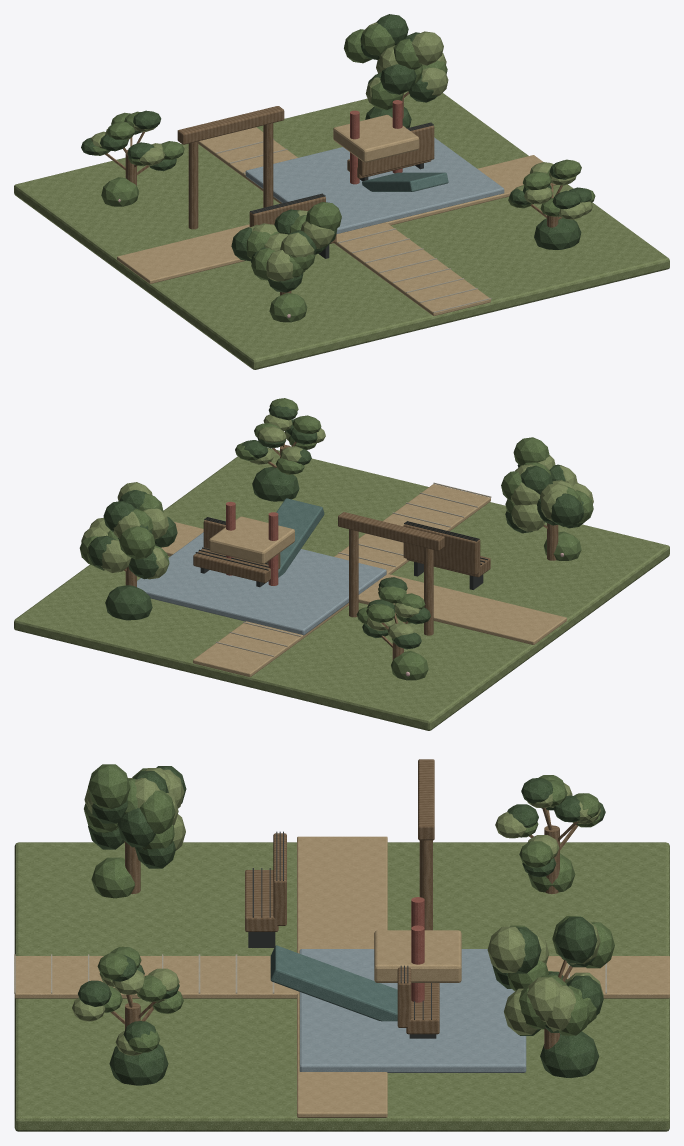
Rendered from PARK_2x2_002.glb.
The picture shows the model from 3 angles, top to bottom: view 1: azimuth 30°, elevation 25°; view 2: azimuth 150°, elevation 25°; view 3: azimuth 270°, elevation 25°; orthographic projection. The views are drawn at different scales.
Visible parts, largest first — view 1: PARK_2x2_002_Visual; view 2: PARK_2x2_002_Visual; view 3: PARK_2x2_002_Visual.
Part boxes in pixels (x1,y1,x2,y2): PARK_2x2_002_Visual: (14, 14, 669, 369); PARK_2x2_002_Visual: (14, 398, 669, 730); PARK_2x2_002_Visual: (14, 759, 669, 1131).
Size of what is drawn, in the model's own units: 3.9 by 1.09 by 3.9.
Materials: 12 (11 with a texture image).
